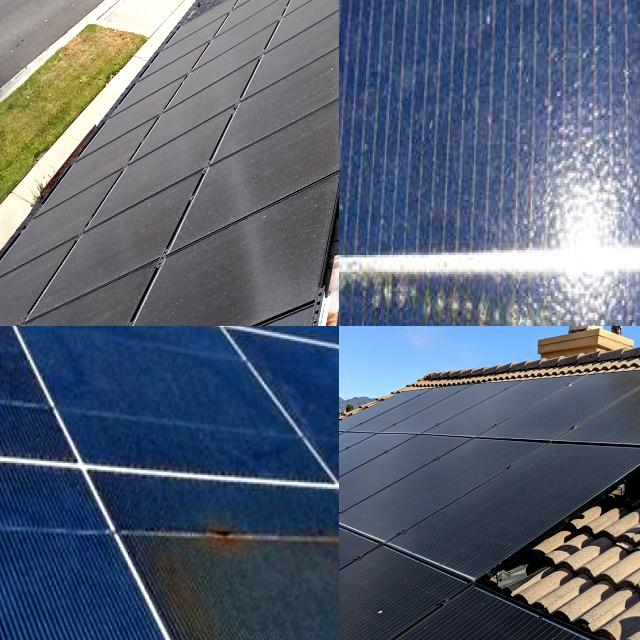dust: (173, 226, 293, 326), (246, 61, 339, 175), (0, 305, 115, 326)
shadow: (340, 211, 640, 326), (122, 492, 339, 640), (339, 165, 393, 261), (339, 26, 365, 209)
